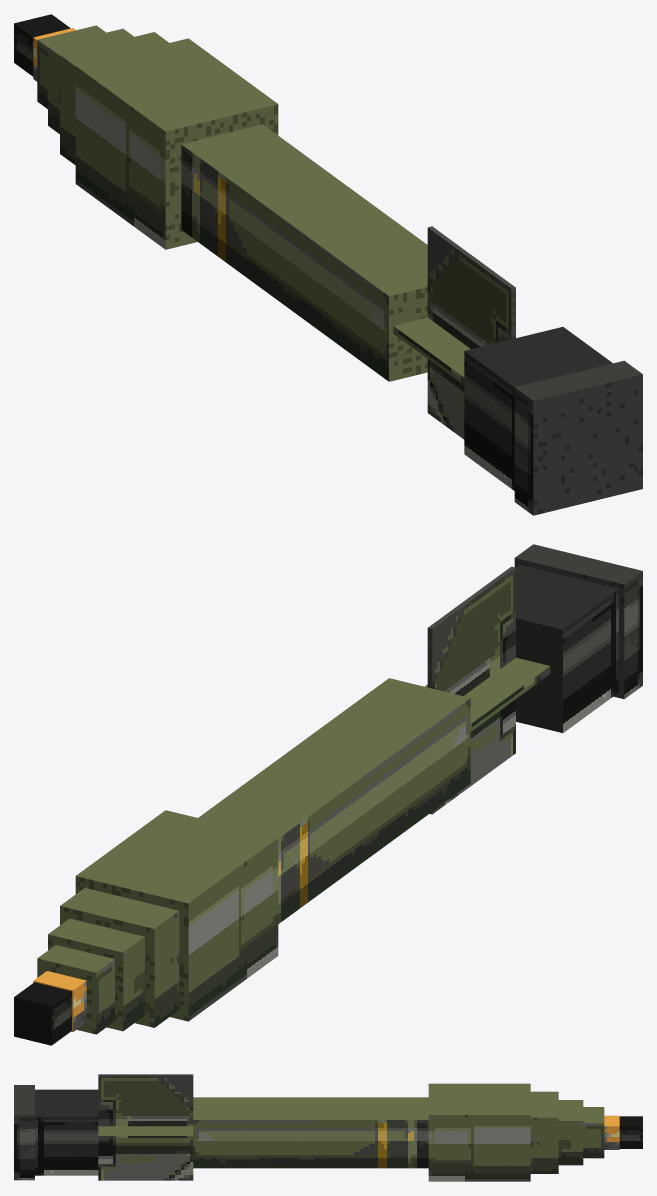
The picture shows the model from 3 angles, top to bottom: view 1: azimuth 30°, elevation 25°; view 2: azimuth 150°, elevation 25°; view 3: azimuth 270°, elevation 25°; orthographic projection. The views are drawn at different scales.
Visible parts, largest first — view 1: motor, warhead, nozzle_ring, nozzle, fins_vertical, body, fins_horizontal, cone_2, tip, cone_1; view 2: motor, warhead, nozzle, fins_vertical, body, nozzle_ring, cone_2, cone_1, tip, fins_horizontal, fuze_band; view 3: motor, warhead, fins_vertical, nozzle, body, nozzle_ring, cone_2, fins_horizontal, cone_1, tip, fuze_band.
Part boxes in pixels (x1,y1,x2,y2): motor: [181, 124, 427, 381]; warhead: [75, 38, 278, 249]; nozzle_ring: [514, 360, 642, 515]; nozzle: [464, 327, 612, 490]; fins_vertical: [427, 226, 515, 439]; body: [60, 32, 168, 164]; fins_horizontal: [393, 317, 470, 385]; cone_2: [48, 28, 133, 133]; tip: [14, 14, 70, 76]; cone_1: [37, 25, 105, 108]; motor: [198, 678, 470, 923]; warhead: [75, 810, 278, 1021]; nozzle: [516, 565, 618, 732]; fins_vertical: [427, 566, 515, 814]; body: [60, 888, 179, 1027]; nozzle_ring: [514, 544, 642, 699]; cone_2: [48, 918, 144, 1031]; cone_1: [37, 945, 114, 1034]; tip: [14, 982, 71, 1045]; fins_horizontal: [425, 657, 550, 731]; fuze_band: [33, 971, 86, 1031]; motor: [193, 1097, 428, 1168]; warhead: [428, 1083, 530, 1181]; fins_vertical: [98, 1074, 193, 1180]; nozzle: [35, 1089, 98, 1175]; body: [530, 1091, 558, 1173]; nozzle_ring: [14, 1085, 34, 1180]; cone_2: [558, 1100, 583, 1165]; fins_horizontal: [98, 1126, 193, 1140]; cone_1: [583, 1107, 604, 1158]; tip: [619, 1116, 642, 1148]; fuze_band: [604, 1115, 619, 1149].
Size of the model in its own units: 0.0962 by 0.1512 by 0.8204.
Materials: 1 (1 with a texture image).
